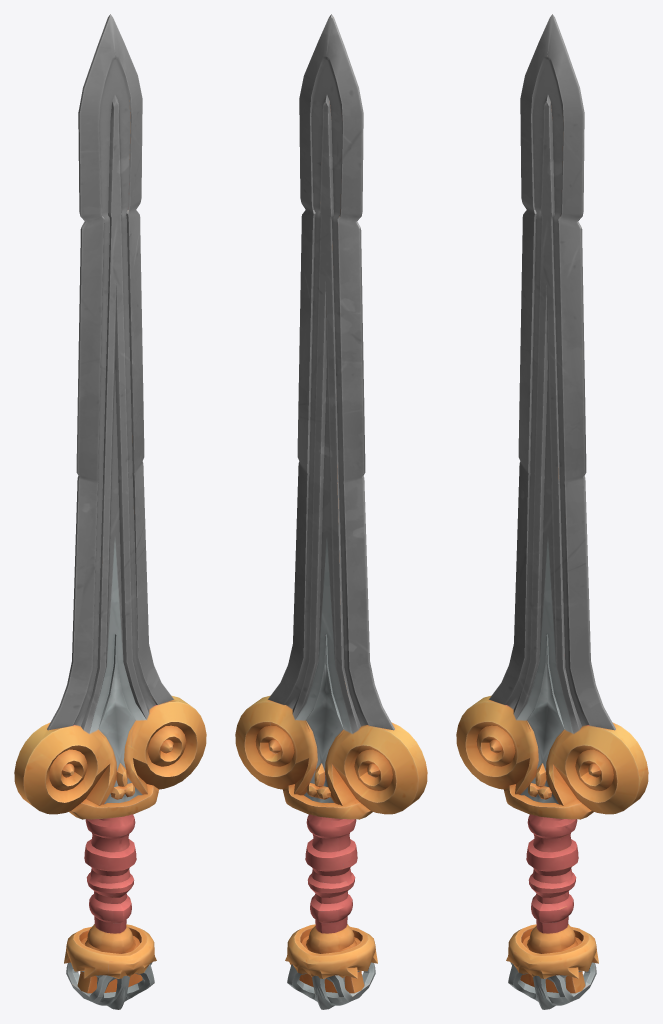
Rendered from Longsword.gltf.
3 renders of one model, left to right at view 1: azimuth 30°, elevation 25°; view 2: azimuth 150°, elevation 25°; view 3: azimuth 330°, elevation 25°, orthographic.
Parts seen in each view (by area): view 1: SM_Sword; view 2: SM_Sword; view 3: SM_Sword.
Part boxes in pixels (left/top/right/bottom): SM_Sword: left=14, top=14, right=206, bottom=1009; SM_Sword: left=235, top=14, right=427, bottom=1009; SM_Sword: left=456, top=14, right=648, bottom=1009.
Bounding box in the file's own units: 0.176 × 0.9092 × 0.077.
1 material, 1 textured.
